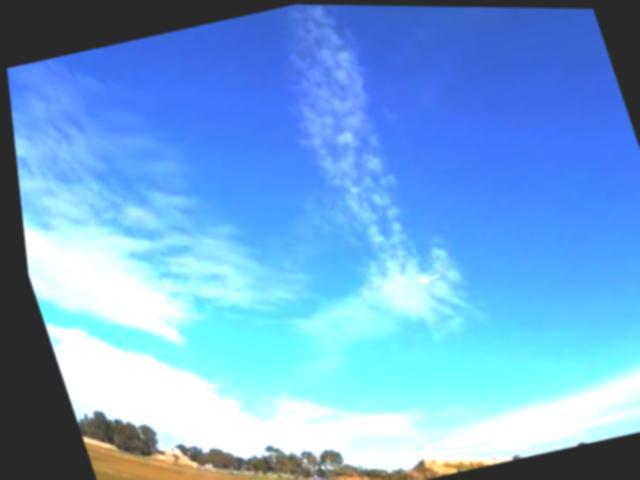uav: (401, 261, 443, 291)
